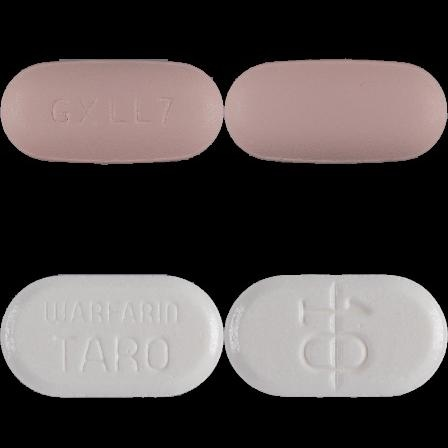49349-811: (0, 0, 224, 224)
